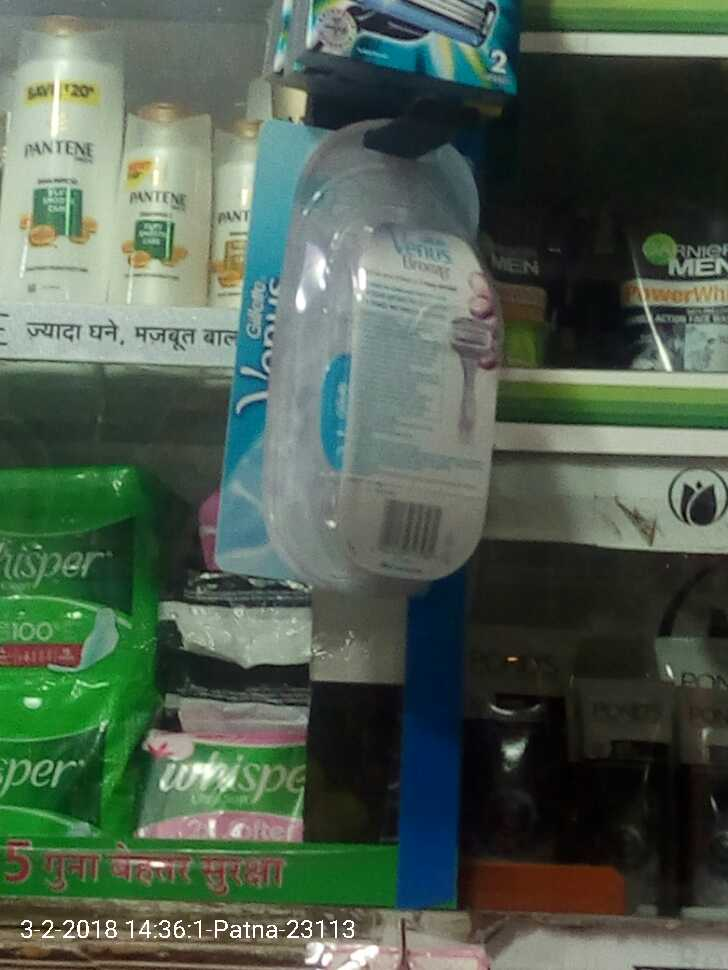beauty: (1, 36, 123, 301), (113, 89, 216, 312)
pharmacy: (1, 458, 155, 681), (139, 713, 326, 848), (1, 684, 143, 837)
